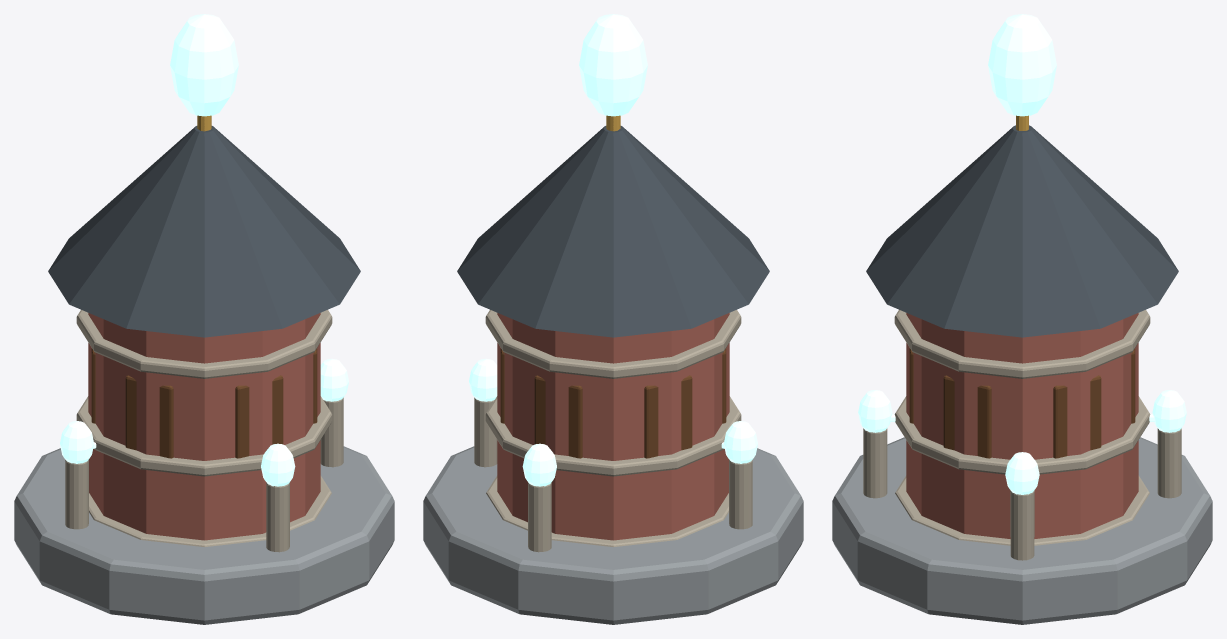
The model's file is RF_Building_Uplink_V2.fbx.
3 renders of one model, left to right at view 1: azimuth 30°, elevation 25°; view 2: azimuth 150°, elevation 25°; view 3: azimuth 270°, elevation 25°, orthographic.
Visible parts, largest first — view 1: Uplink_Roof.001, Uplink_Base.001, Uplink_Tower.001, Uplink_Crystal.001, Uplink_Band.006, Uplink_Band.005, Uplink_Band.004, Uplink_Frame.011, Uplink_Frame.006, Uplink_Pylon.006, Uplink_Pylon.007, Uplink_Pylon.004 (+3 smaller); view 2: Uplink_Roof.001, Uplink_Base.001, Uplink_Tower.001, Uplink_Crystal.001, Uplink_Band.006, Uplink_Band.005, Uplink_Band.004, Uplink_Frame.010, Uplink_Frame.009, Uplink_Pylon.006, Uplink_Pylon.005, Uplink_Pylon.004 (+3 smaller); view 3: Uplink_Roof.001, Uplink_Base.001, Uplink_Tower.001, Uplink_Crystal.001, Uplink_Band.006, Uplink_Band.005, Uplink_Band.004, Uplink_Frame.007, Uplink_Frame.008, Uplink_Pylon.004, Uplink_Pylon.005, Uplink_Pylon.007 (+3 smaller).
Boxes of the visible parts, <box> form: Uplink_Roof.001: <box>48,126,360,337</box>; Uplink_Base.001: <box>14,446,394,624</box>; Uplink_Tower.001: <box>88,313,320,540</box>; Uplink_Crystal.001: <box>170,14,238,116</box>; Uplink_Band.006: <box>76,310,332,378</box>; Uplink_Band.005: <box>76,396,332,476</box>; Uplink_Band.004: <box>89,475,331,547</box>; Uplink_Frame.011: <box>125,375,173,458</box>; Uplink_Frame.006: <box>235,375,283,458</box>; Uplink_Pylon.006: <box>65,459,88,529</box>; Uplink_Pylon.007: <box>266,482,289,552</box>; Uplink_Pylon.004: <box>320,397,343,467</box>; Uplink_Roof.001: <box>457,126,769,337</box>; Uplink_Base.001: <box>423,446,803,624</box>; Uplink_Tower.001: <box>497,313,729,540</box>; Uplink_Crystal.001: <box>579,14,647,116</box>; Uplink_Band.006: <box>485,310,741,378</box>; Uplink_Band.005: <box>485,396,741,476</box>; Uplink_Band.004: <box>486,475,728,547</box>; Uplink_Frame.010: <box>644,375,692,458</box>; Uplink_Frame.009: <box>534,375,582,458</box>; Uplink_Pylon.006: <box>729,459,752,529</box>; Uplink_Pylon.005: <box>528,482,551,552</box>; Uplink_Pylon.004: <box>474,397,497,467</box>; Uplink_Roof.001: <box>866,125,1178,337</box>; Uplink_Base.001: <box>832,437,1212,624</box>; Uplink_Tower.001: <box>906,313,1138,538</box>; Uplink_Crystal.001: <box>988,14,1056,116</box>; Uplink_Band.006: <box>894,310,1150,378</box>; Uplink_Band.005: <box>894,396,1150,474</box>; Uplink_Band.004: <box>895,475,1149,545</box>; Uplink_Frame.007: <box>943,375,991,458</box>; Uplink_Frame.008: <box>1053,375,1101,458</box>; Uplink_Pylon.004: <box>1010,490,1034,560</box>; Uplink_Pylon.005: <box>1157,428,1181,498</box>; Uplink_Pylon.007: <box>863,428,887,498</box>.
Size of the model in its own units: 5.3 by 5.3 by 8.2.
